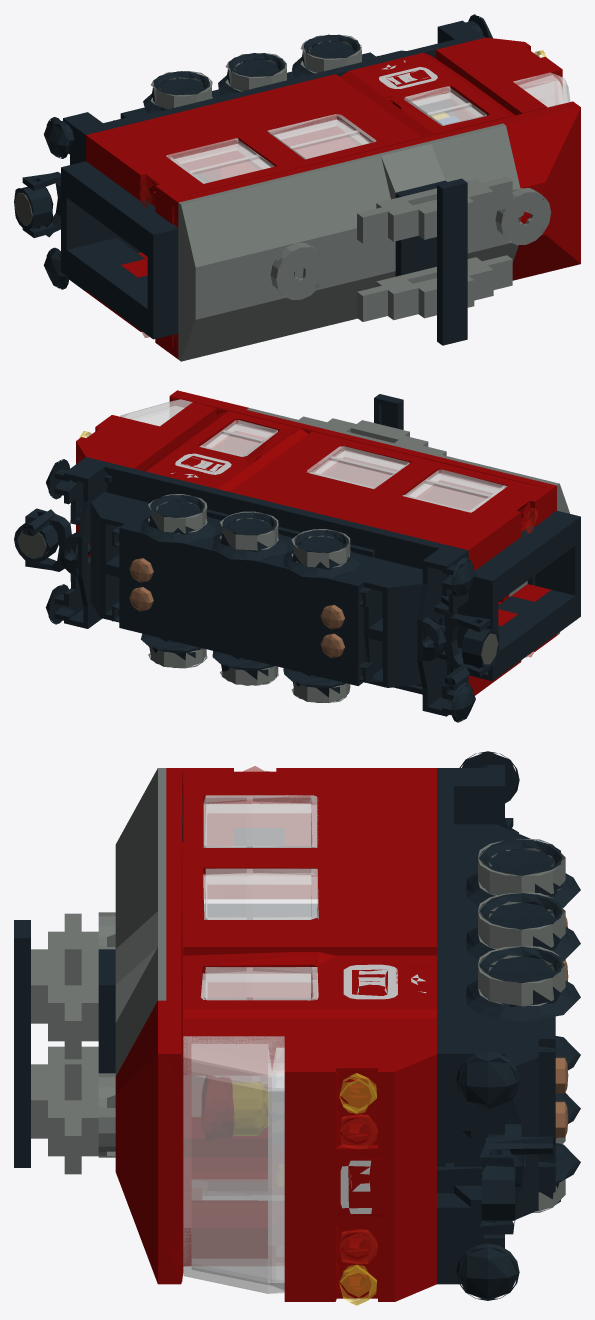
File: motor-railcar.glb
3 renders of one model, top to bottom at view 1: azimuth 30°, elevation 25°; view 2: azimuth 150°, elevation 25°; view 3: azimuth 270°, elevation 25°, orthographic. The views are drawn at different scales.
Bounding box in the file's own units: 157 × 52 × 107.
